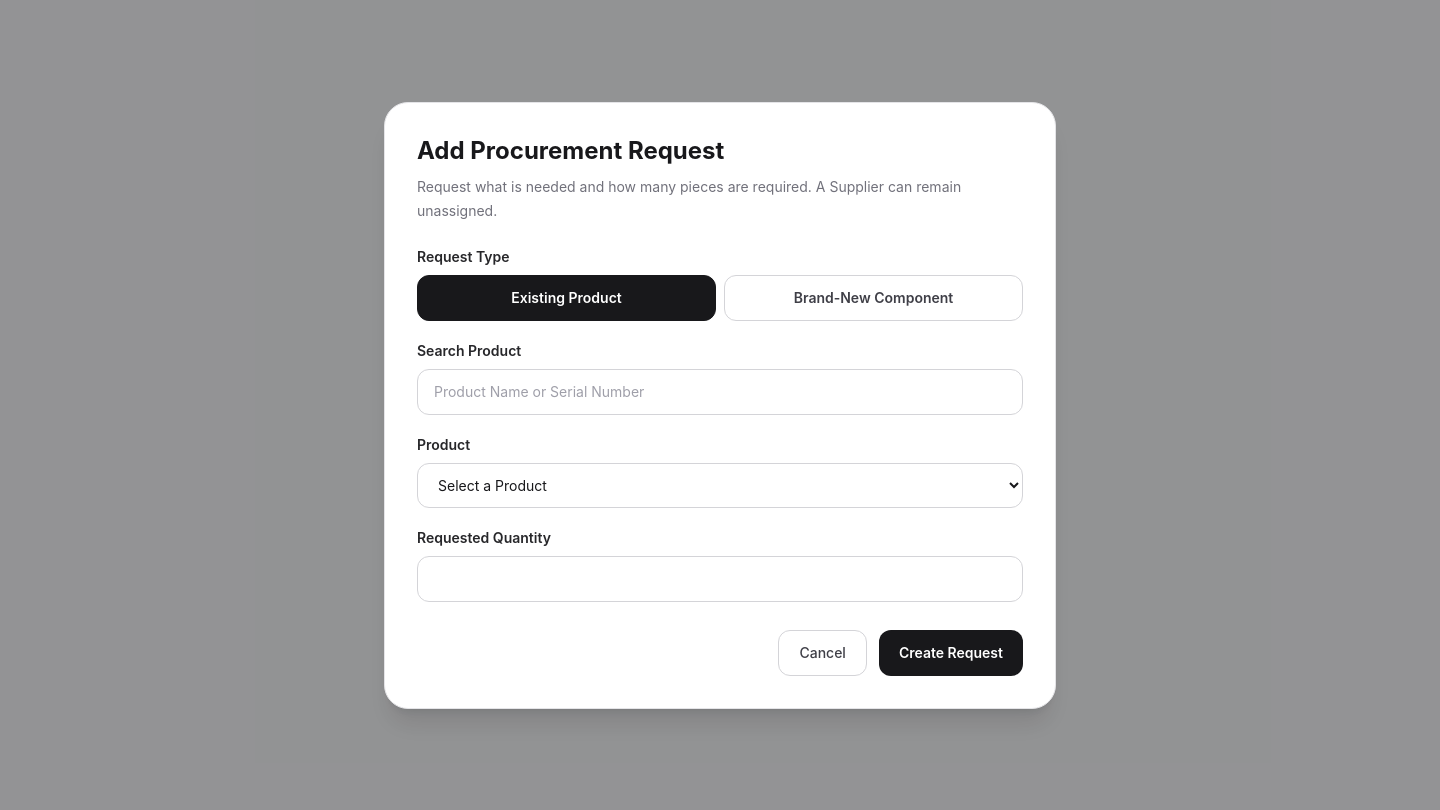
Test: CreateExistingProductRequestDialog › rejects invalid quantity
Select "0000123 — Server Product Name" in the dropdown labelled "Product": (720, 485) [417,462,1023,508]
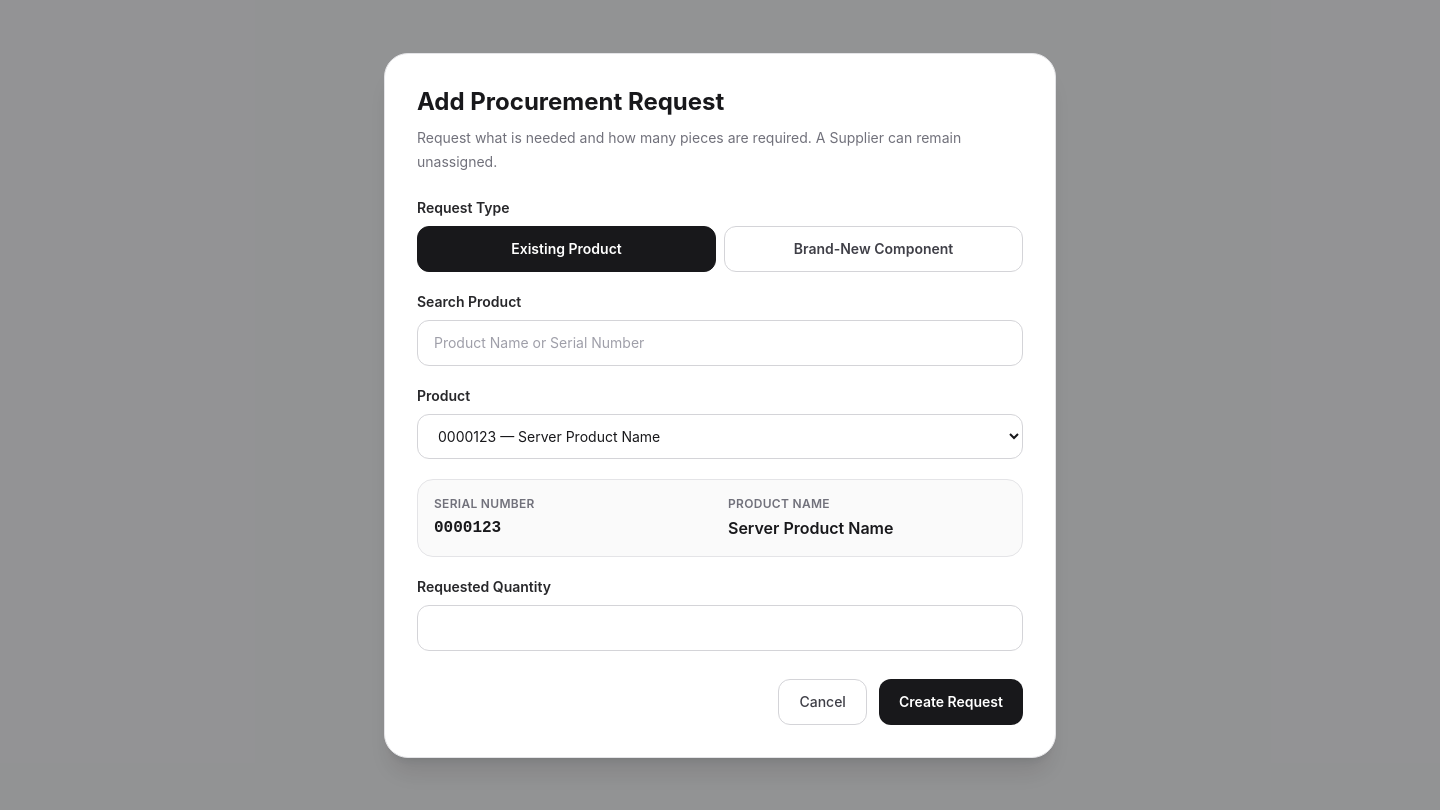
Click the button "Create Request": (951, 702) [879,678,1023,724]
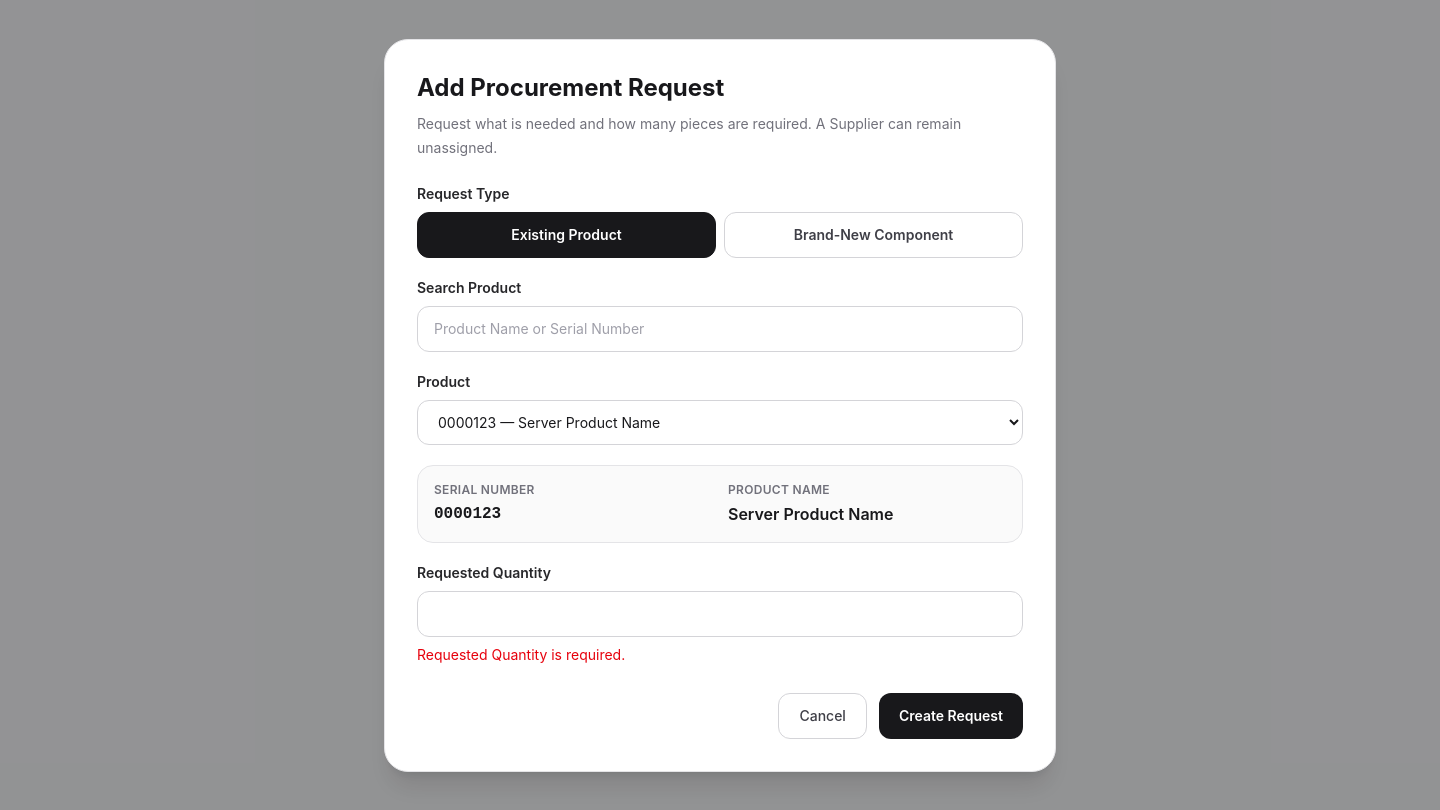
Now the text "Requested Quantity is required." is shown, box [417,646,625,662]
